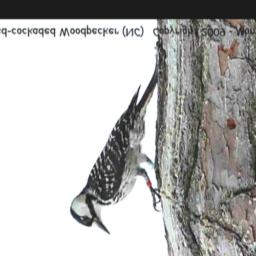Woodpecker: (67, 53, 165, 235)
